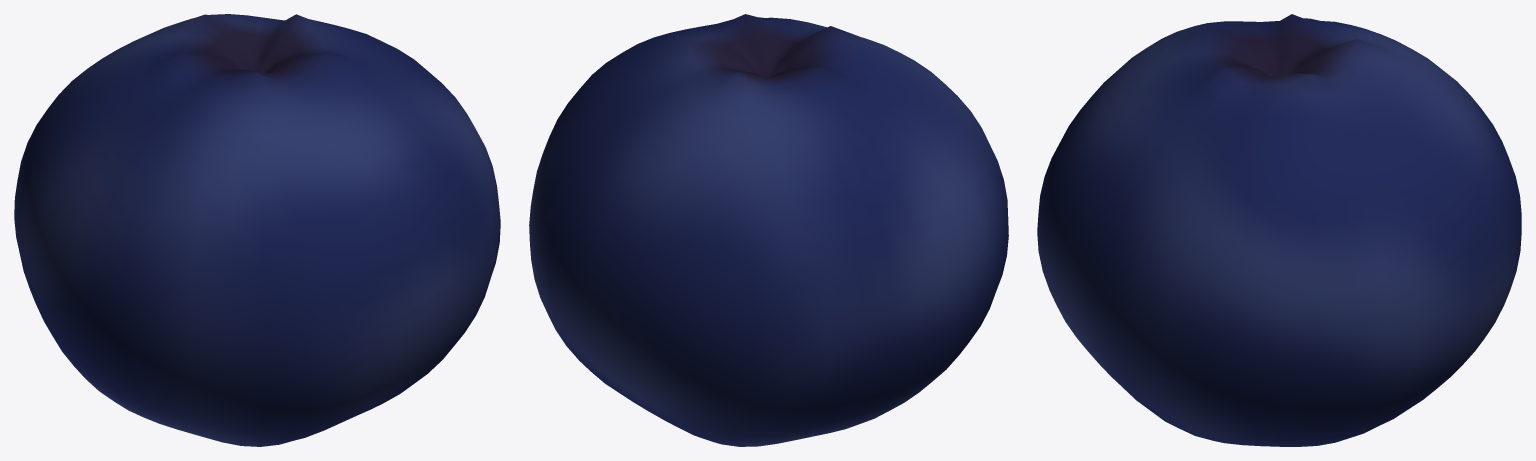
The model's file is blueberry_held.glb.
3 renders of one model, left to right at view 1: azimuth 30°, elevation 25°; view 2: azimuth 150°, elevation 25°; view 3: azimuth 270°, elevation 25°, orthographic.
Parts seen in each view (by area): view 1: eat_0_Body, eat_1_Body, eat_2_Body; view 2: eat_0_Body, eat_1_Body, eat_2_Body; view 3: eat_0_Body, eat_1_Body, eat_2_Body.
Part boxes in pixels (box(x1,y1,x2,y2)): eat_0_Body: box(14, 14, 500, 446); eat_1_Body: box(24, 16, 491, 446); eat_2_Body: box(26, 37, 417, 418); eat_0_Body: box(529, 14, 1008, 446); eat_1_Body: box(533, 15, 1008, 446); eat_2_Body: box(533, 22, 975, 424); eat_0_Body: box(1037, 14, 1521, 446); eat_1_Body: box(1037, 18, 1516, 446); eat_2_Body: box(1039, 41, 1500, 441).
Size of the model in its own units: 0.0661 by 0.0563 by 0.066.
